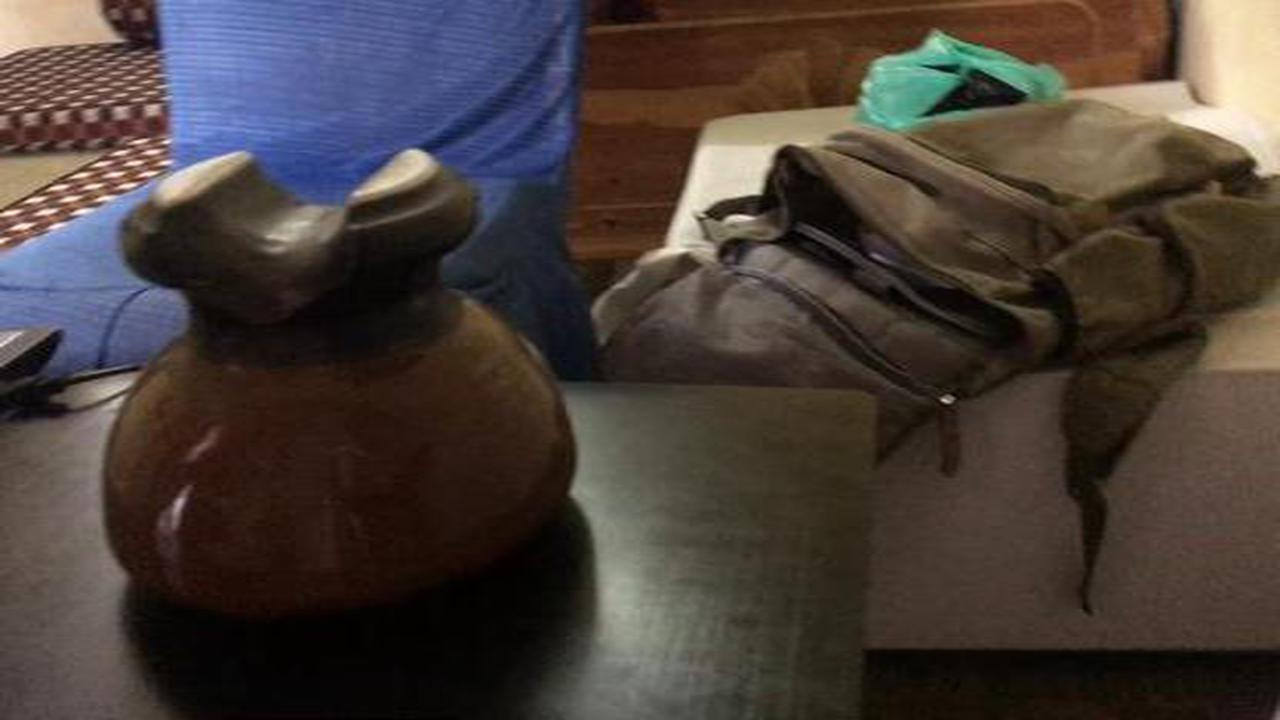insulator_pin: (81, 141, 604, 655)
